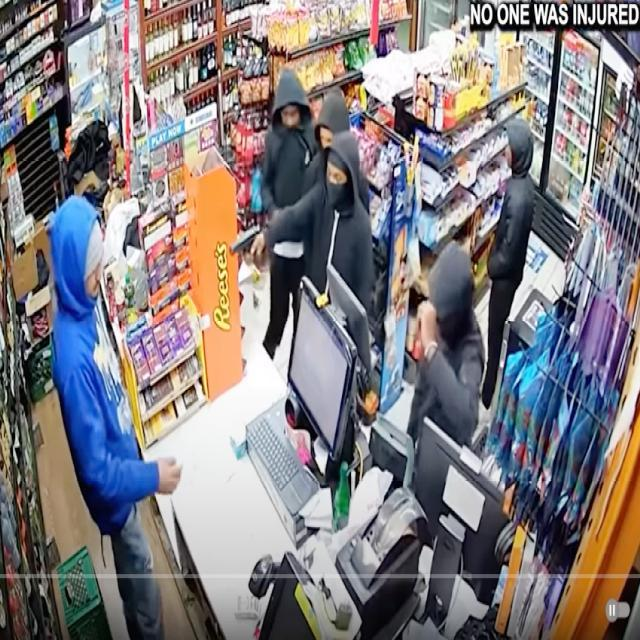Gun: (222, 222, 280, 262)
